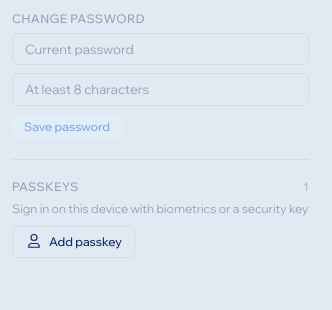
it: SecuritySettings › сообщает об отмене создания ключа
The image size is (332, 310).
Click the button "Add passkey".
click(74, 242)  # box [12,226,135,258]
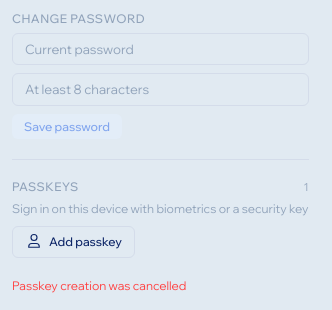
expect the text "Passkey creation was cancelled" is shown: met, box [12,278,186,293]
